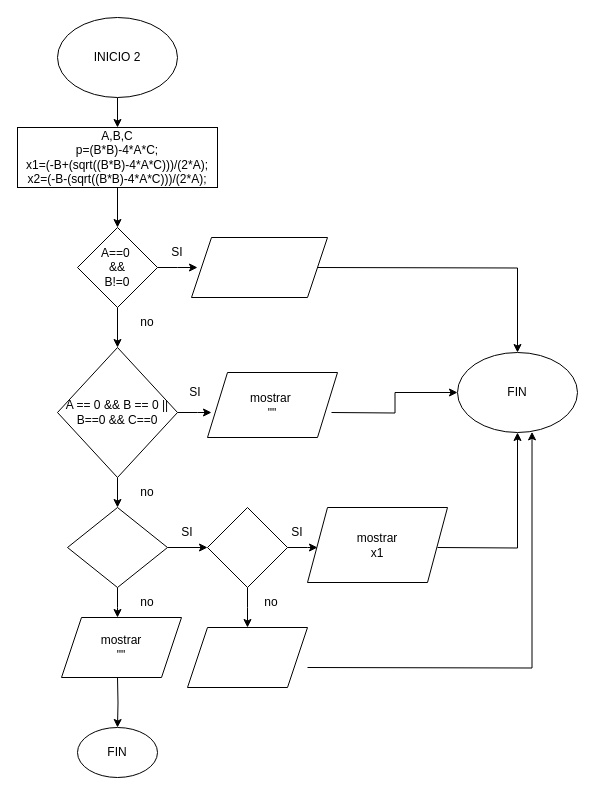
The diagram is 595 pixels wide and 795 high, and some of its shapes have lost their labels. The centre of each missing label's shape, as x and y in pixels:
mostrar -C/B: (259,267)
mostrar x1 "" x2: (247,657)
p>=0: (117,547)
x1==x2: (247,547)
